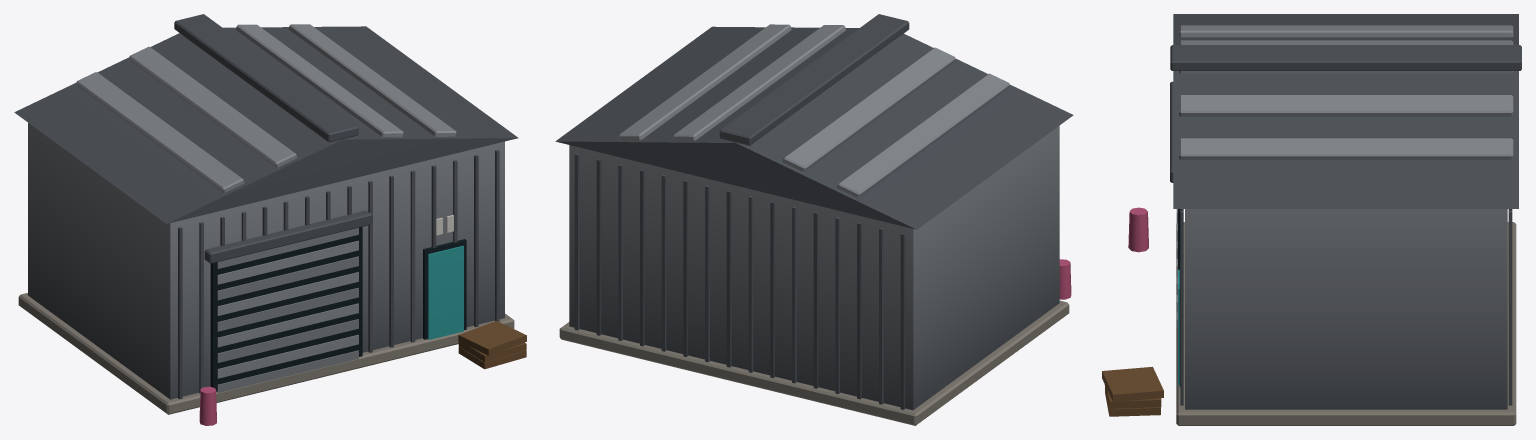
The model's file is dock_warehouse_unit.glb.
The picture shows the model from 3 angles, left to right: view 1: azimuth 30°, elevation 25°; view 2: azimuth 150°, elevation 25°; view 3: azimuth 270°, elevation 25°; orthographic projection. The views are drawn at different scales.
Parts seen in each view (by area): view 1: dock_warehouse_unit; view 2: dock_warehouse_unit; view 3: dock_warehouse_unit.
Boxes of the visible parts, bbox=[...] form: dock_warehouse_unit: bbox=[14, 14, 526, 425]; dock_warehouse_unit: bbox=[555, 14, 1073, 425]; dock_warehouse_unit: bbox=[1102, 14, 1521, 425].
Size of the model in its own units: 8 by 5.32 by 7.29.
